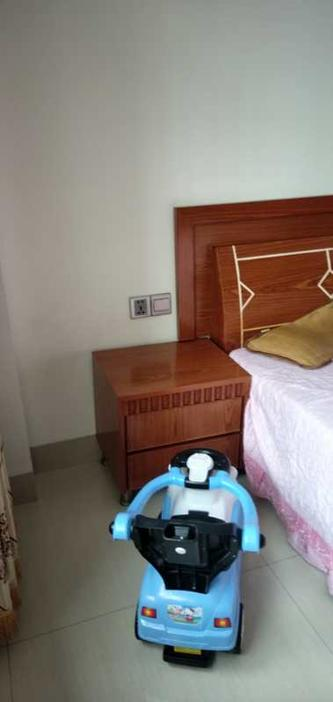switch: (154, 292, 179, 319)
